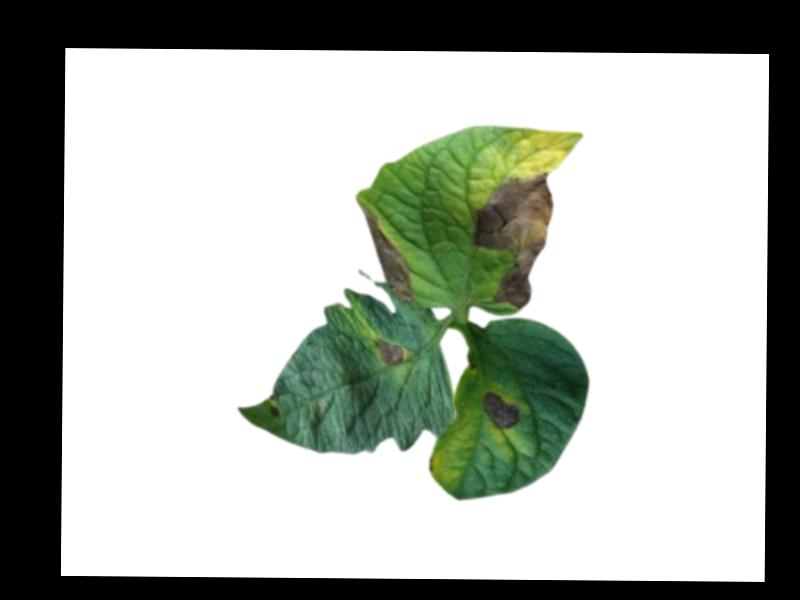Early_blight: (471, 171, 553, 311), (351, 207, 414, 303), (480, 389, 520, 431), (372, 337, 406, 366), (267, 404, 279, 419)
